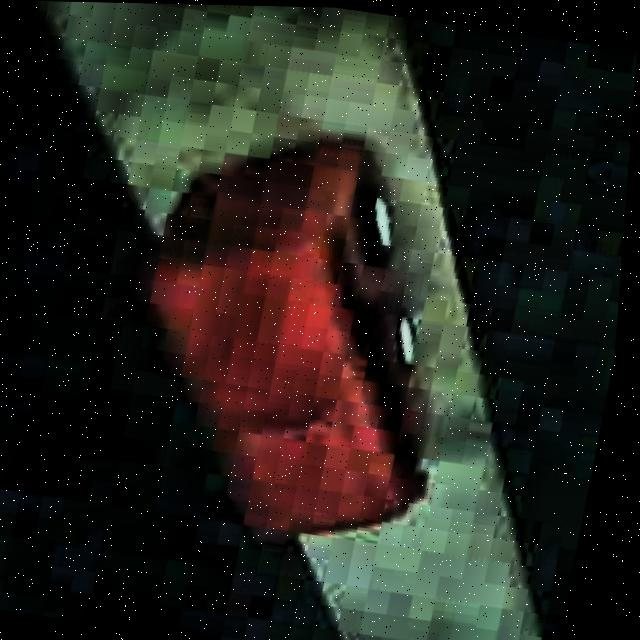bus: (97, 108, 497, 562)
